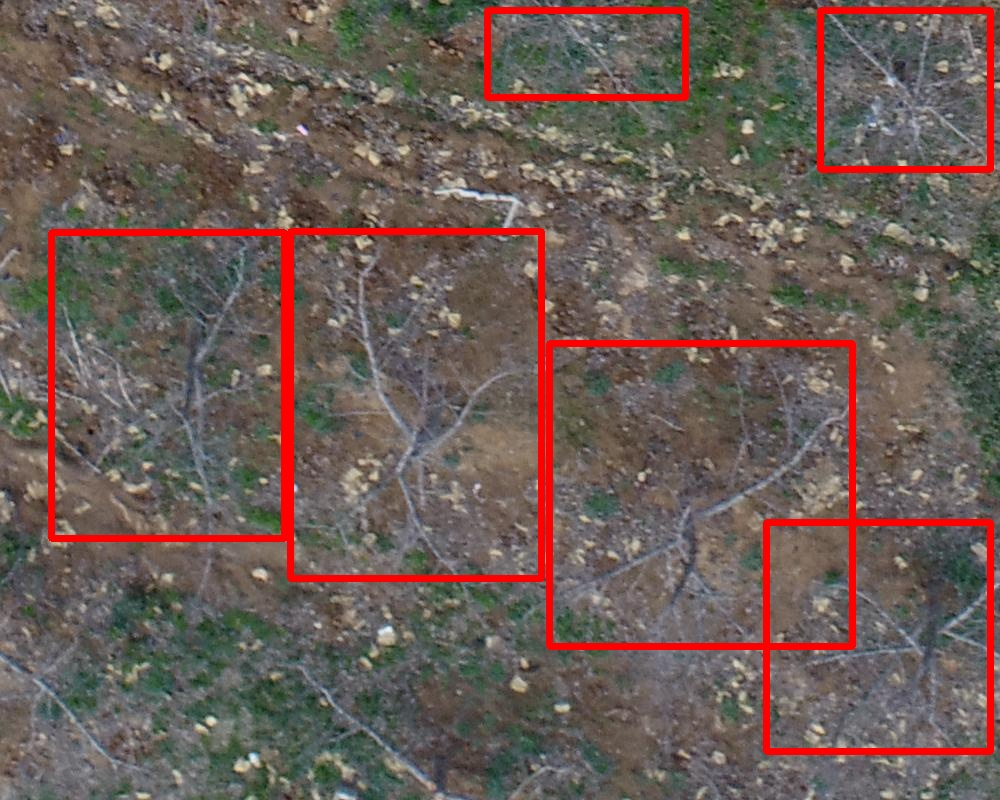apple: (549, 343, 852, 646), (290, 231, 541, 578), (51, 232, 284, 538), (766, 522, 990, 751), (820, 10, 990, 169), (487, 10, 685, 97)
